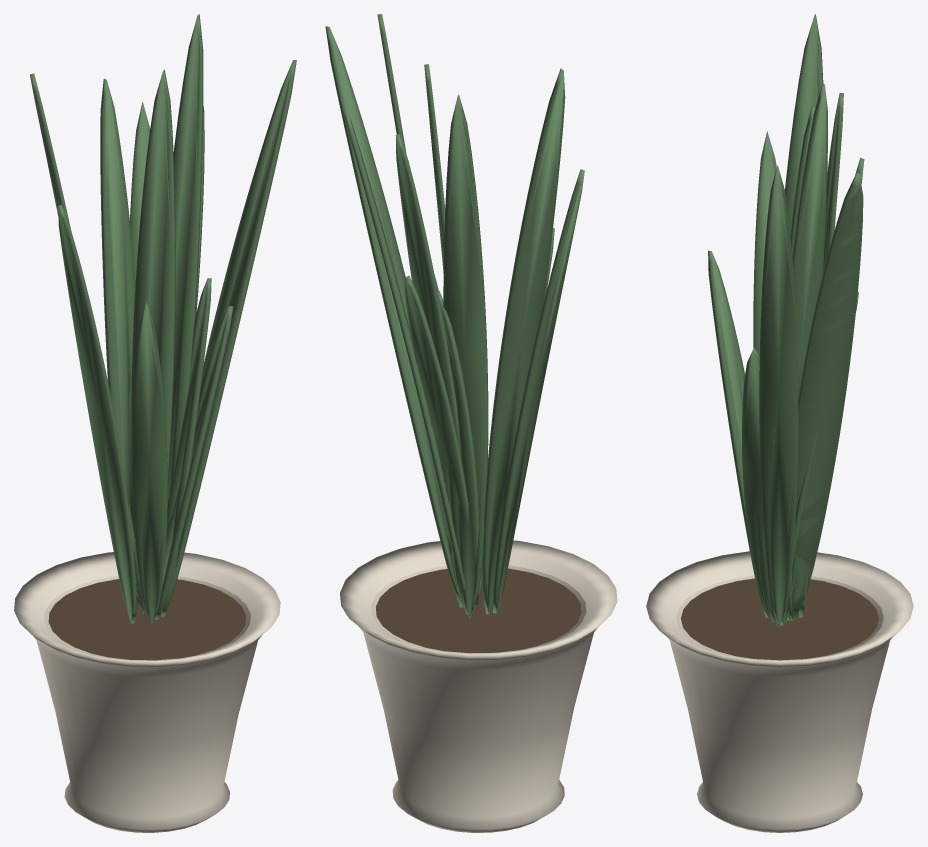
The model's file is PlantSnake.fbx.
3 views of the same model, side by side, from view 1: azimuth 30°, elevation 25°; view 2: azimuth 150°, elevation 25°; view 3: azimuth 270°, elevation 25° (orthographic). The views are drawn at different scales.
Parts seen in each view (by area): view 1: SnakeFoliage, SnakePot, SnakeSoil; view 2: SnakeFoliage, SnakePot, SnakeSoil; view 3: SnakeFoliage, SnakePot, SnakeSoil.
Boxes of the visible parts, <box> form: SnakeFoliage: <box>30,14,296,624</box>; SnakePot: <box>14,552,280,832</box>; SnakeSoil: <box>48,579,246,660</box>; SnakeFoliage: <box>325,14,584,619</box>; SnakePot: <box>340,540,617,832</box>; SnakeSoil: <box>376,568,581,653</box>; SnakeFoliage: <box>708,14,864,627</box>; SnakePot: <box>646,551,913,832</box>; SnakeSoil: <box>681,578,878,660</box>.
Size of the model in its own units: 132 by 361 by 116.
